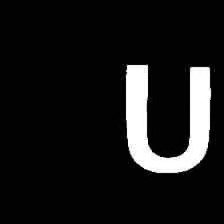LTR_U: (119, 56, 214, 178)
